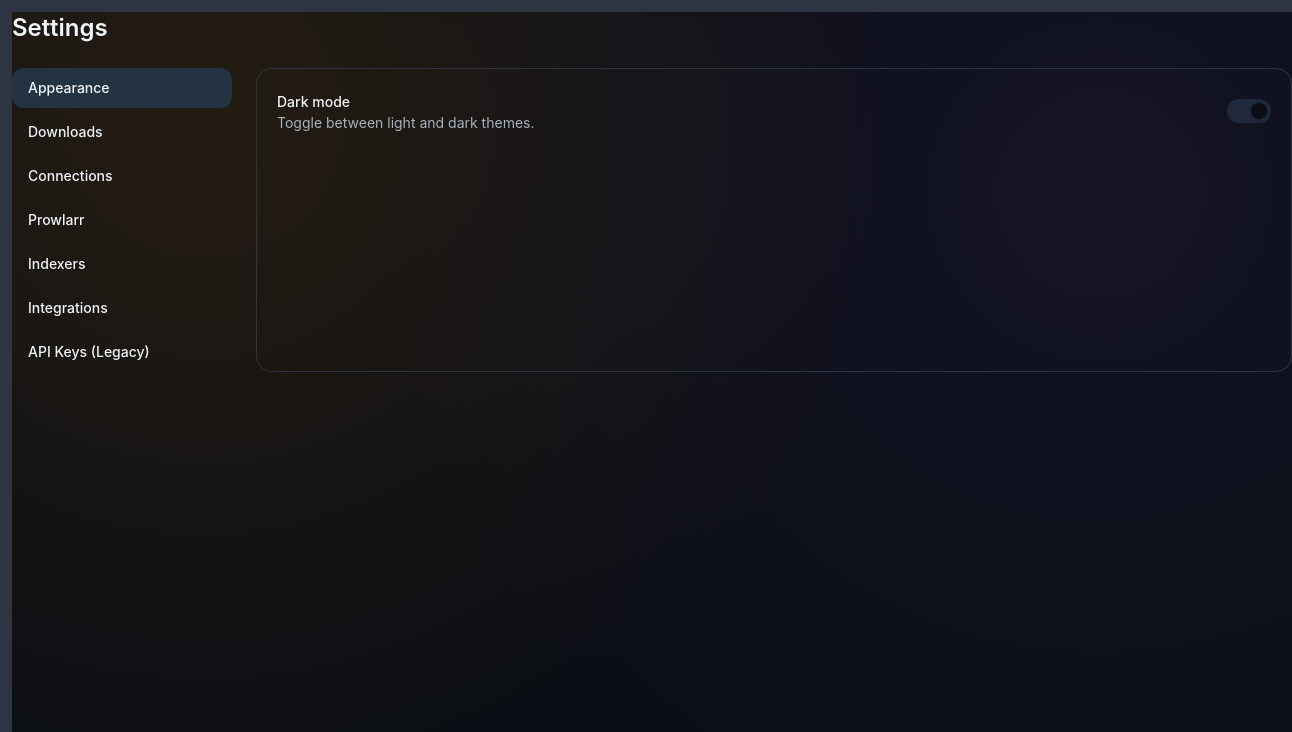
Test: SettingsPage sidebar layout › shows unsaved indicator when section is dirty
Click the button "Downloads". click: coordinates (122, 132)
box: [12,112,232,152]
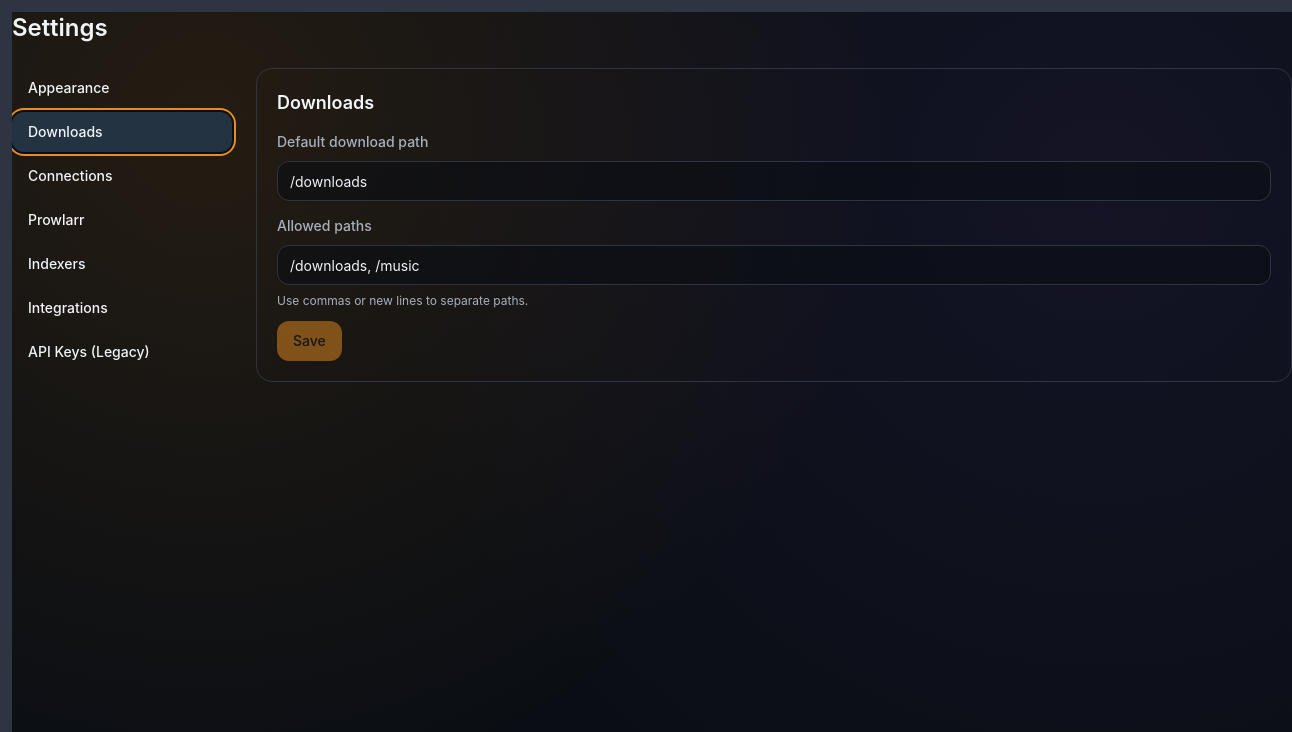
Type "/x" into the field labelled "Default download path". click: coordinates (774, 181)
box: [277,161,1271,201]
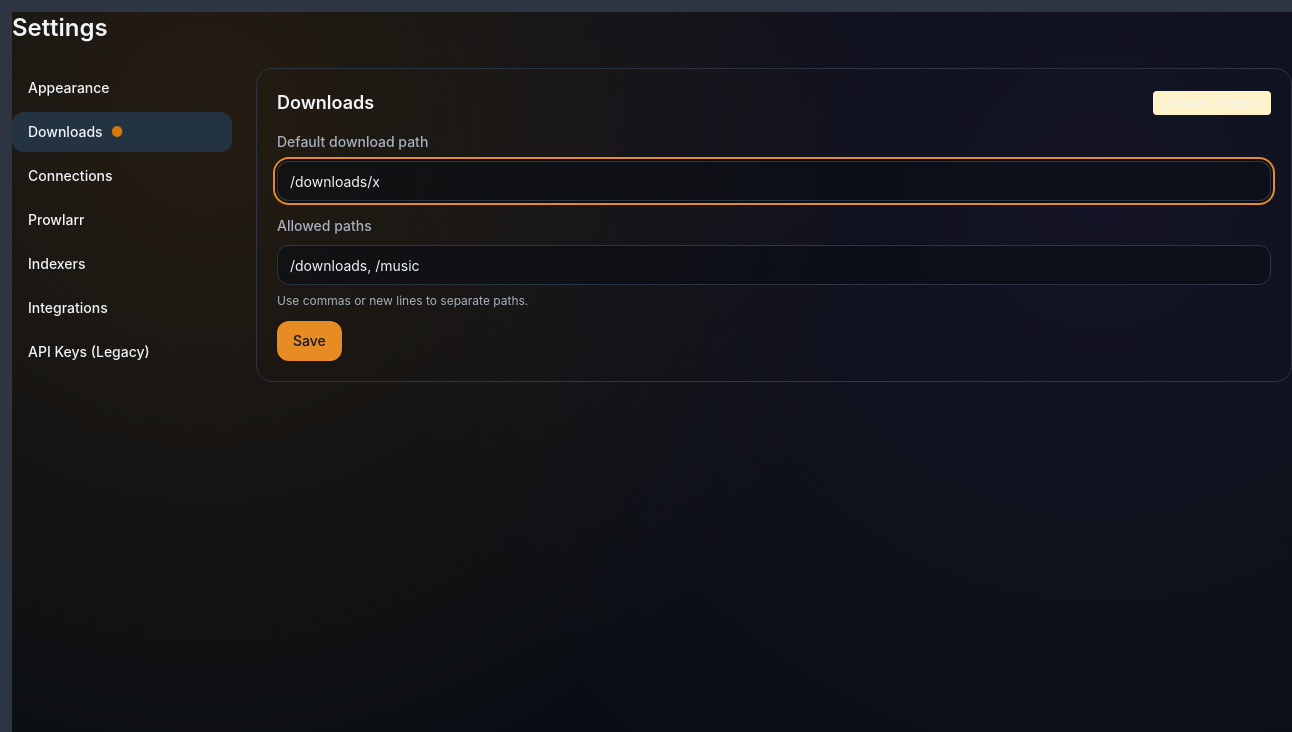
Now the text "Unsaved changes" is shown, box [1153,91,1271,115]
